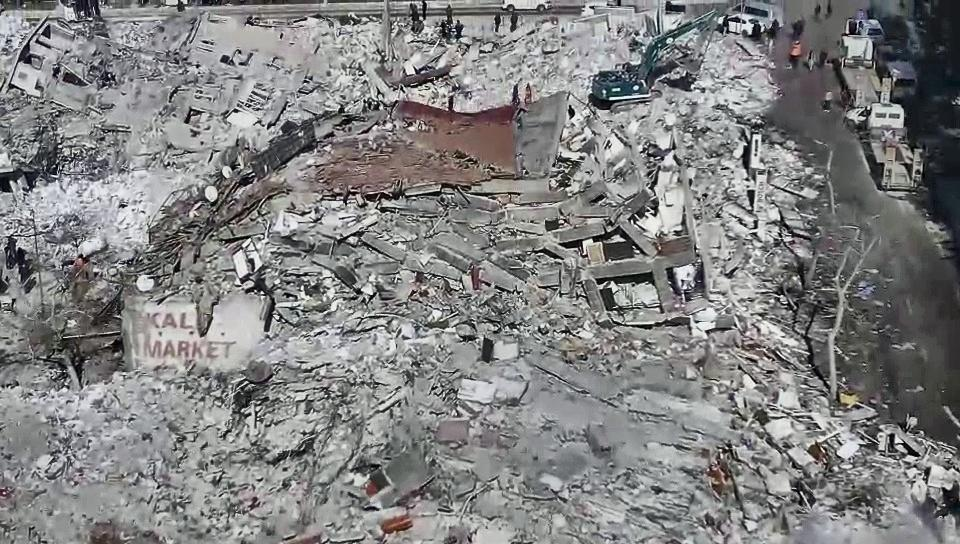kapali: (744, 277, 959, 543)
